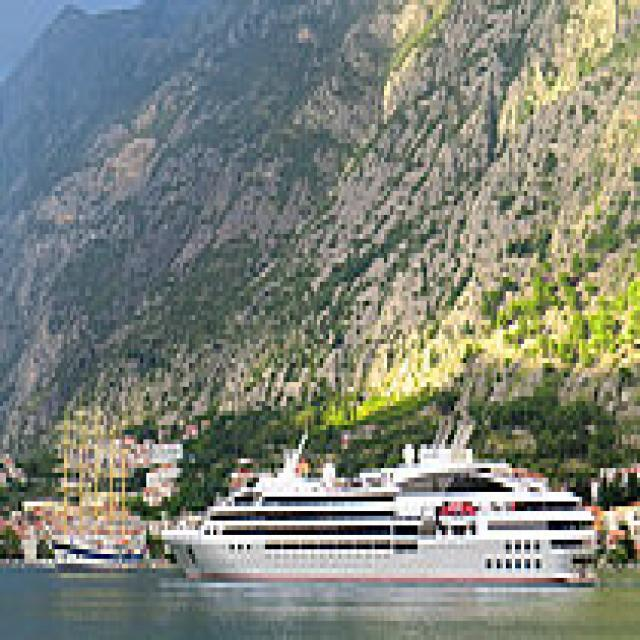Ship: (154, 436, 617, 599)
